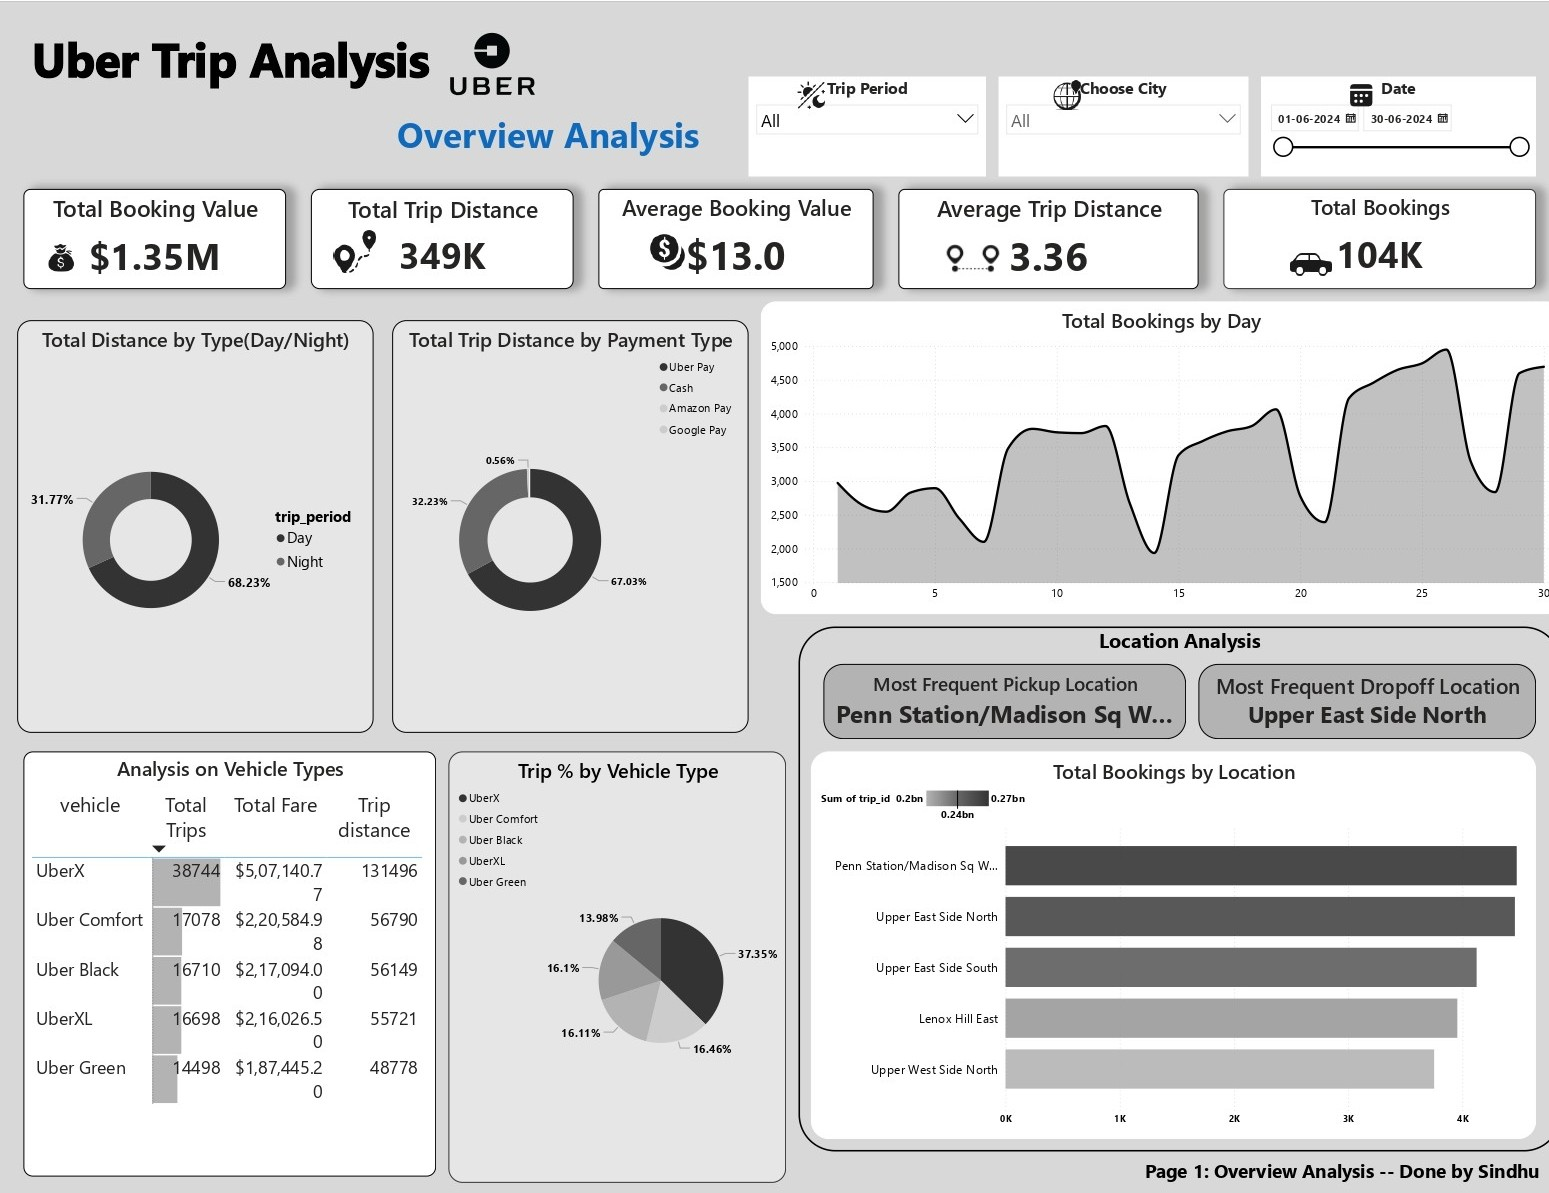

This screenshot's page, from the dashboard's own definition file:
{"tool":"powerbi","page":{"name":"Overview Analysis","canvas":[2200,1520],"ordinal":0},"visuals":[{"type":"shape","box":[16,48,256,1456],"z":0,"group":"g1"},{"type":"donutChart","title":"Total Trip Distance by Payment Type","fields":{"Category":["Trip Details.payment_type"],"Y":["Trip Details.Total Trips"]},"box":[704,384,464,512],"z":0},{"type":"barChart","title":"Total Bookings by Location","fields":{"Category":["Location Table.Location"],"Y":["CountNonNull(Trip Details.trip_id)"]},"box":[1336,1008,864,496],"z":0,"group":"g2"},{"type":"image","box":[32,96,224,160],"z":1000,"group":"g1"},{"type":"donutChart","title":"Total Distance by Type(Day/Night)","fields":{"Category":["Trip Details.trip_period"],"Y":["Sum(Trip Details.trip_distance)"]},"box":[288,384,400,512],"z":1000},{"type":"card","title":"Most Frequent Pickup Location","fields":{"Values":["Trip Details.Most Frequent Pickup Zone"]},"box":[1328,864,480,128],"z":1000,"group":"g2"},{"type":"actionButton","box":[32,384,224,144],"z":2000,"group":"g1"},{"type":"areaChart","title":"Total Bookings by Day","fields":{"Category":["Trip Details.pickup_time.Variation.Date Hierarchy.Day"],"Y":["CountNonNull(Trip Details.trip_id)"]},"box":[1200,384,976,400],"z":2000},{"type":"card","title":"Most Frequent Dropoff Location","fields":{"Values":["Trip Details.Most Frequent Dropoff Zone"]},"box":[1824,864,352,128],"z":2000,"group":"g2"},{"type":"actionButton","title":"Time Analysis","box":[32,576,224,128],"z":3000,"group":"g1"},{"type":"shape","box":[1320,816,880,688],"z":3000,"group":"g2"},{"type":"tableEx","title":"Analysis on Vehicle Types","fields":{"Values":["Trip Details.vehicle","Trip Details.Total Trips","Trip Details.Total Fare","Sum(Trip Details.trip_distance)"]},"box":[288,912,528,592],"z":3000},{"type":"card","title":"Average Trip Distance","fields":{"Values":["Trip Details.Average distance"]},"box":[1216,128,384,112],"z":4000},{"type":"actionButton","title":"Details","box":[32,752,224,128],"z":4000,"group":"g1"},{"type":"card","title":"Average Booking Value","fields":{"Values":["Trip Details.Average Fare"]},"box":[784,128,400,112],"z":5000},{"type":"textbox","title":"Developed By Sindhu","box":[32,1392,224,80],"z":5000,"group":"g1"},{"type":"shape","box":[736,32,240,80],"z":6000,"group":"g1"},{"type":"card","title":"Total Bookings","fields":{"Values":["Trip Details.Total Trips"]},"box":[784,256,400,112],"z":6000},{"type":"card","title":"Total Booking Value","fields":{"Values":["Trip Details.Total Fare"]},"box":[336,256,416,112],"z":7000},{"type":"image","box":[32,1232,208,96],"z":7000,"group":"g1"},{"type":"card","title":"Total Trip Distance","fields":{"Values":["Sum(Trip Details.trip_distance)"]},"box":[336,128,416,112],"z":8000},{"type":"image","box":[48,1056,176,128],"z":8000,"group":"g1"},{"type":"shape","box":[384,0,672,144],"z":9000},{"type":"shape","box":[832,0,480,144],"z":10000},{"type":"slicer","title":"Trip Period","fields":{"Values":["Trip Details.trip_period"]},"box":[1696,16,480,112],"z":11000},{"type":"slicer","title":"Choose City","fields":{"Values":["Location Table.City"]},"box":[1696,144,480,96],"z":12000},{"type":"slicer","title":"Date","fields":{"Values":["Trip Details.pickup_time"]},"box":[1696,256,480,112],"z":13000},{"type":"pieChart","title":" Trip % by Vehicle Type","fields":{"Category":["Trip Details.vehicle"],"Y":["CountNonNull(Trip Details.trip_id)"]},"box":[848,912,448,592],"z":14000},{"type":"image","box":[384,176,144,48],"z":15000},{"type":"image","box":[832,304,128,48],"z":16000},{"type":"image","box":[832,176,80,48],"z":17000},{"type":"image","box":[1264,160,112,80],"z":18000},{"type":"image","box":[368,304,96,64],"z":19000},{"type":"image","box":[1808,16,128,48],"z":20000},{"type":"image","box":[1824,144,80,48],"z":21000},{"type":"image","box":[1856,256,80,48],"z":22000},{"type":"image","box":[32,928,208,96],"z":23000},{"type":"group","id":"g1","title":"Group 1","box":[16,32,960,1472],"z":24000},{"type":"image","box":[0,912,272,128],"z":25000},{"type":"group","id":"g2","title":"Group 2","box":[1320,816,880,688],"z":26000}]}

Visuals, with their boxes on the page's 2200x1520 design canvas (x1, y1, x2, y2). These are canvas units, not pixel positions in the 1549x1193 screenshot, which may show the page scaled, cropped or inside an application window:
shape: bbox=[16, 48, 272, 1504]
"Total Trip Distance by Payment Type" donutChart: bbox=[704, 384, 1168, 896]
"Total Bookings by Location" barChart: bbox=[1336, 1008, 2200, 1504]
image: bbox=[32, 96, 256, 256]
"Total Distance by Type(Day/Night)" donutChart: bbox=[288, 384, 688, 896]
"Most Frequent Pickup Location" card: bbox=[1328, 864, 1808, 992]
actionButton: bbox=[32, 384, 256, 528]
"Total Bookings by Day" areaChart: bbox=[1200, 384, 2176, 784]
"Most Frequent Dropoff Location" card: bbox=[1824, 864, 2176, 992]
"Time Analysis" actionButton: bbox=[32, 576, 256, 704]
shape: bbox=[1320, 816, 2200, 1504]
"Analysis on Vehicle Types" tableEx: bbox=[288, 912, 816, 1504]
"Average Trip Distance" card: bbox=[1216, 128, 1600, 240]
"Details" actionButton: bbox=[32, 752, 256, 880]
"Average Booking Value" card: bbox=[784, 128, 1184, 240]
"Developed By Sindhu" textbox: bbox=[32, 1392, 256, 1472]
shape: bbox=[736, 32, 976, 112]
"Total Bookings" card: bbox=[784, 256, 1184, 368]
"Total Booking Value" card: bbox=[336, 256, 752, 368]
image: bbox=[32, 1232, 240, 1328]
"Total Trip Distance" card: bbox=[336, 128, 752, 240]
image: bbox=[48, 1056, 224, 1184]
shape: bbox=[384, 0, 1056, 144]
shape: bbox=[832, 0, 1312, 144]
"Trip Period" slicer: bbox=[1696, 16, 2176, 128]
"Choose City" slicer: bbox=[1696, 144, 2176, 240]
"Date" slicer: bbox=[1696, 256, 2176, 368]
" Trip % by Vehicle Type" pieChart: bbox=[848, 912, 1296, 1504]
image: bbox=[384, 176, 528, 224]
image: bbox=[832, 304, 960, 352]
image: bbox=[832, 176, 912, 224]
image: bbox=[1264, 160, 1376, 240]
image: bbox=[368, 304, 464, 368]
image: bbox=[1808, 16, 1936, 64]
image: bbox=[1824, 144, 1904, 192]
image: bbox=[1856, 256, 1936, 304]
image: bbox=[32, 928, 240, 1024]
"Group 1" group: bbox=[16, 32, 976, 1504]
image: bbox=[0, 912, 272, 1040]
"Group 2" group: bbox=[1320, 816, 2200, 1504]
